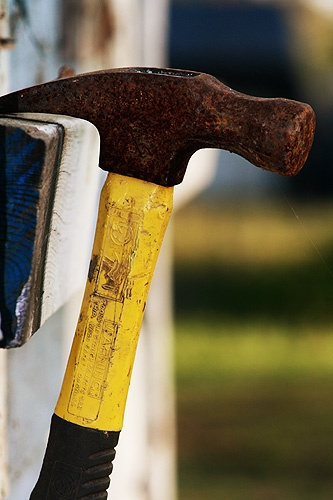hammer: (1, 67, 316, 478)
